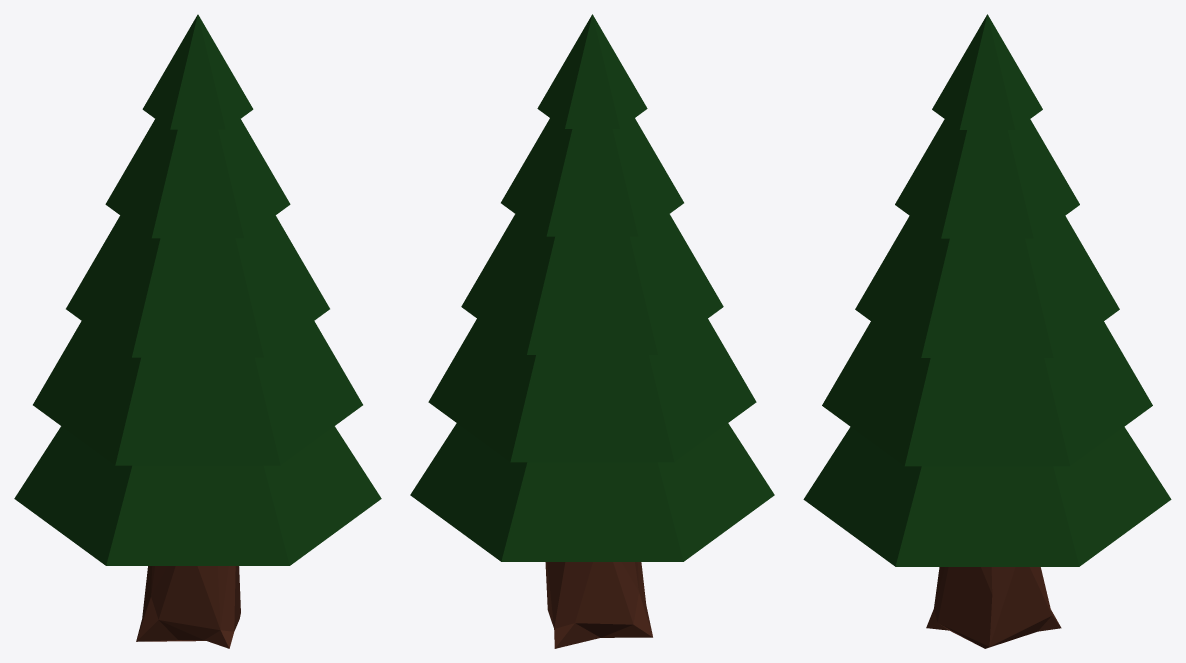
File: evergreen.fbx
3 renders of one model, left to right at view 1: azimuth 30°, elevation 25°; view 2: azimuth 150°, elevation 25°; view 3: azimuth 270°, elevation 25°, orthographic.
Parts seen in each view (by area): view 1: Cube; view 2: Cube; view 3: Cube.
Part boxes in pixels (<box>): Cube: <box>14,14,381,648</box>; Cube: <box>410,14,774,648</box>; Cube: <box>803,14,1171,648</box>.
Bounding box in the file's own units: 305 × 649 × 352.
